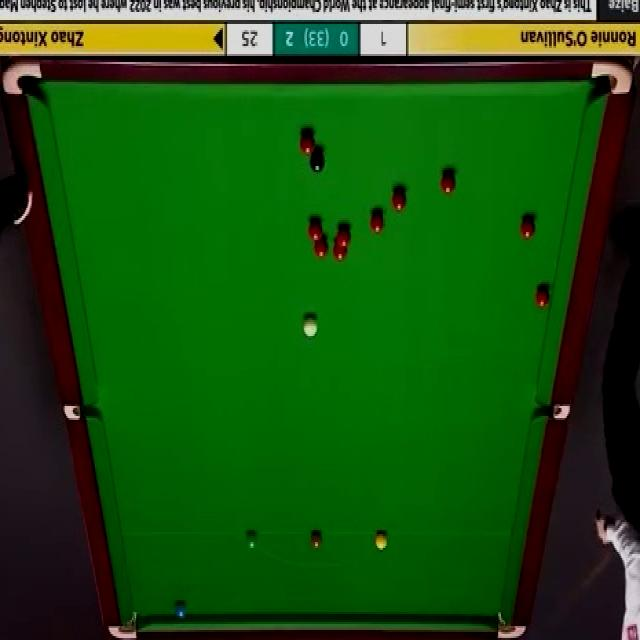black-ball: (306, 148, 324, 174)
blue-ball: (174, 598, 186, 620)
brown-ball: (310, 531, 323, 550)
green-ball: (246, 531, 259, 550)
red-ball: (438, 168, 456, 196), (519, 216, 535, 242), (393, 185, 408, 211), (535, 282, 550, 307), (299, 132, 315, 155), (371, 212, 385, 236), (335, 225, 350, 246), (333, 241, 348, 262), (314, 237, 328, 259), (310, 222, 323, 243)
white-ball: (302, 316, 320, 337)
yellow-ball: (375, 531, 388, 550)
